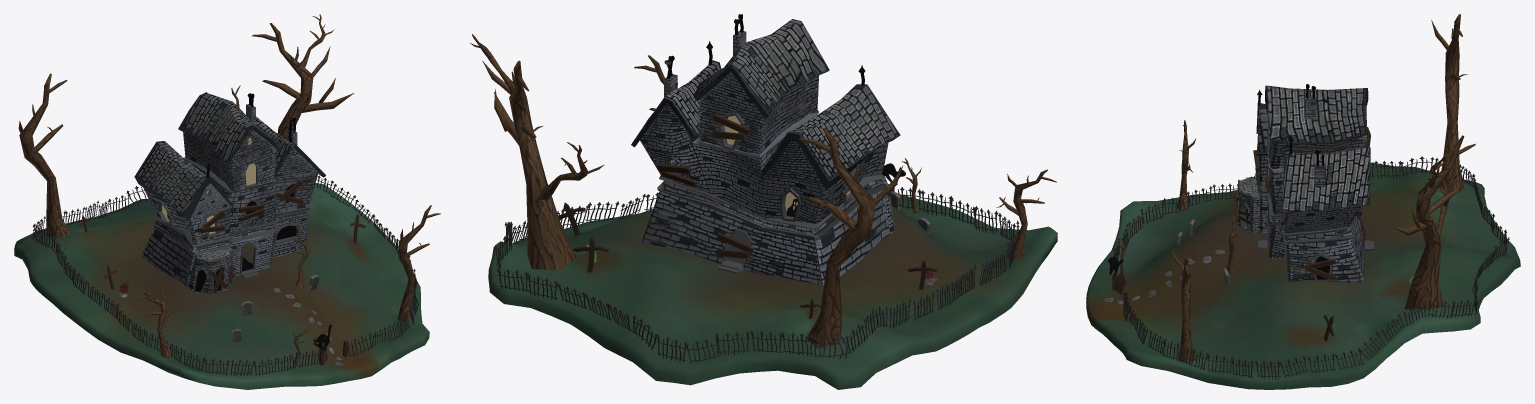
The model's file is house.glb.
3 views of the same model, side by side, from view 1: azimuth 30°, elevation 25°; view 2: azimuth 150°, elevation 25°; view 3: azimuth 270°, elevation 25° (orthographic). The views are drawn at different scales.
Parts seen in each view (by area): view 1: Base, House, FenceIron, LargeTree, LargeTreeLeft, MediumTreeRight, MediumTreeLeft; view 2: Base, House, FenceIron, LargeTree, LargeTreeLeft, MediumTreeLeft, GraveMarkers; view 3: Base, House, FenceIron, LargeTree, LargeTreeLeft, MediumTreeRight, MediumTreeLeft, Chimney _House_0.
Boxes of the visible parts, box(x1,y1,x2,y2) form: Base: box(14, 183, 429, 389); House: box(134, 92, 325, 294); FenceIron: box(32, 175, 418, 375); LargeTree: box(231, 14, 354, 138); LargeTreeLeft: box(18, 73, 70, 237); MediumTreeRight: box(397, 205, 440, 321); MediumTreeLeft: box(137, 286, 173, 358); Base: box(488, 195, 1057, 389); House: box(631, 19, 900, 285); FenceIron: box(495, 187, 1019, 363); LargeTree: box(470, 34, 604, 270); LargeTreeLeft: box(798, 128, 902, 348); MediumTreeLeft: box(996, 169, 1056, 259); GraveMarkers: box(558, 202, 937, 318); Base: box(1086, 162, 1520, 389); House: box(1237, 85, 1374, 282); FenceIron: box(1113, 156, 1509, 379); LargeTree: box(1392, 135, 1475, 310); LargeTreeLeft: box(1431, 14, 1467, 193); MediumTreeRight: box(1171, 249, 1195, 362); MediumTreeLeft: box(1176, 120, 1196, 212); Chimney _House_0: box(1304, 97, 1325, 186).
Size of the model in its own units: 15.06 by 9.17 by 15.31.
12 materials, 8 textured.
